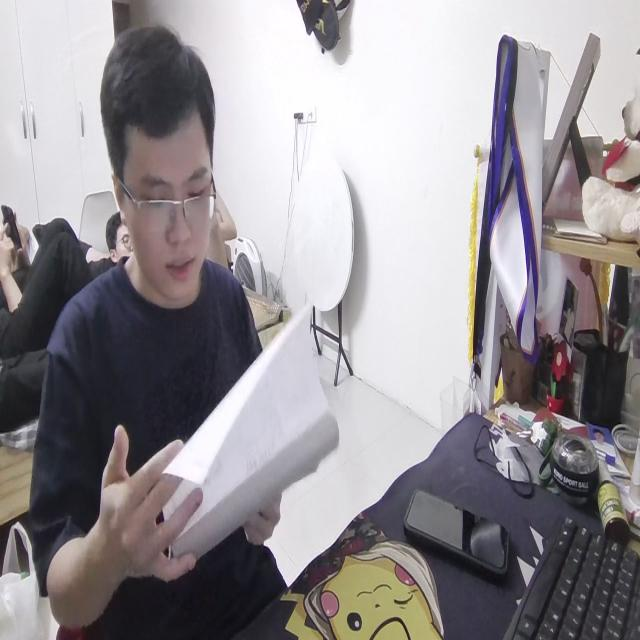book: (140, 295, 340, 559)
extra_person: (99, 218, 132, 261)
phone: (401, 476, 515, 588)
student: (33, 24, 280, 640)
